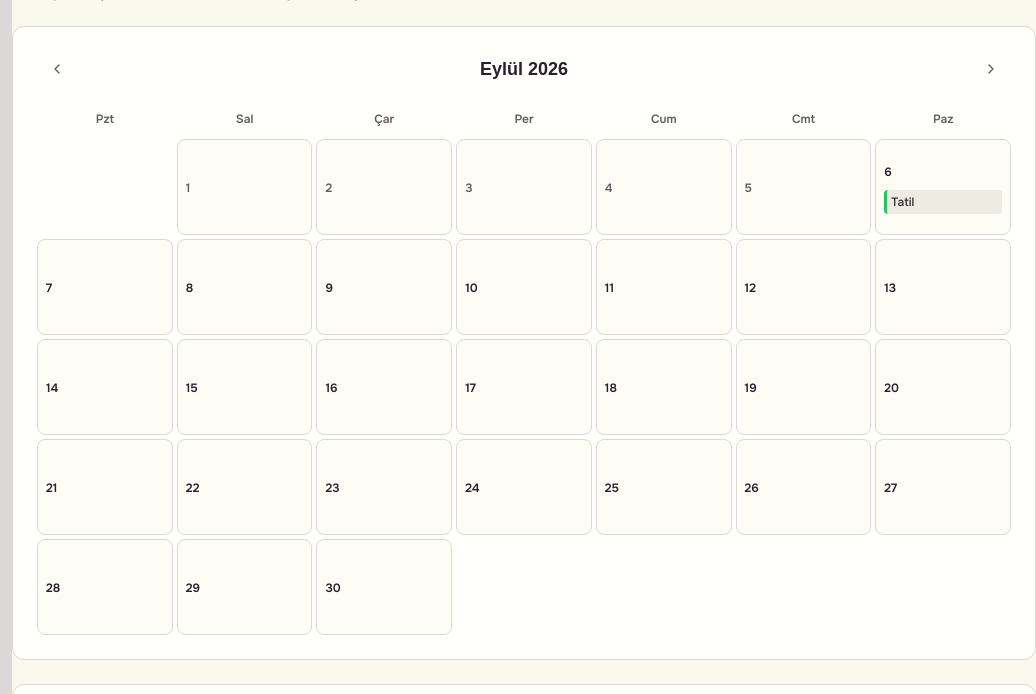
edits a date-specific day type
Click the button "6 Tatil": point(943, 187) top-left (875, 139), bottom-right (1011, 235)
(page scrolled)
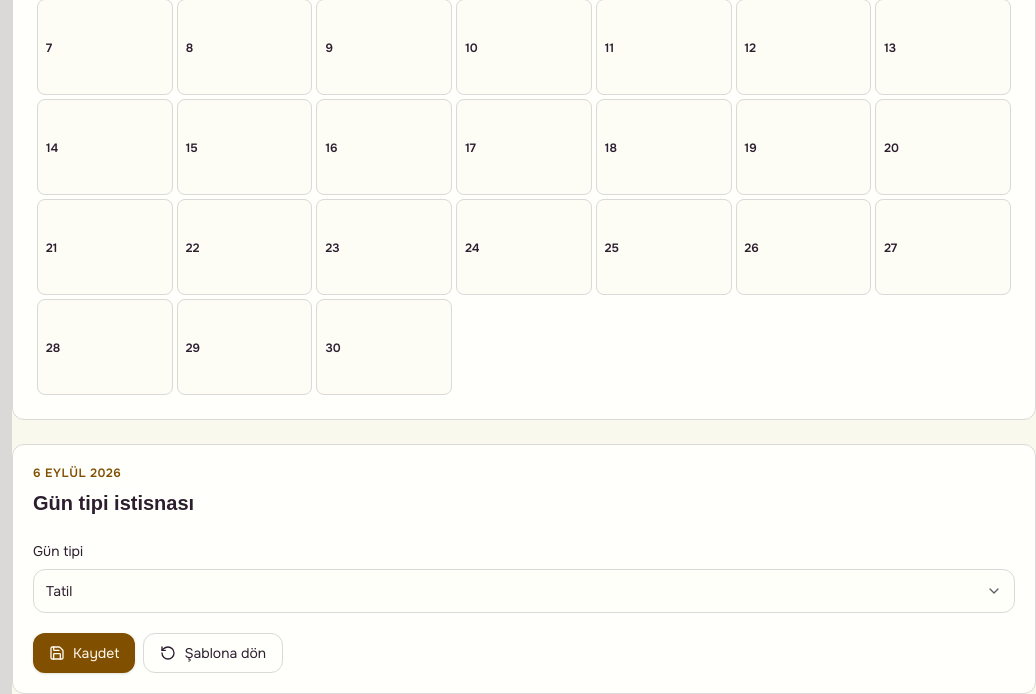
Check: the heading "Gün tipi istisnası" is shown, box top-left (33, 492), bottom-right (194, 514)
Check: the button "Şablona dön" is shown, box top-left (143, 633), bottom-right (283, 673)
Click the dropdown named "Gün tipi": point(59, 591) top-left (33, 569), bottom-right (1015, 613)
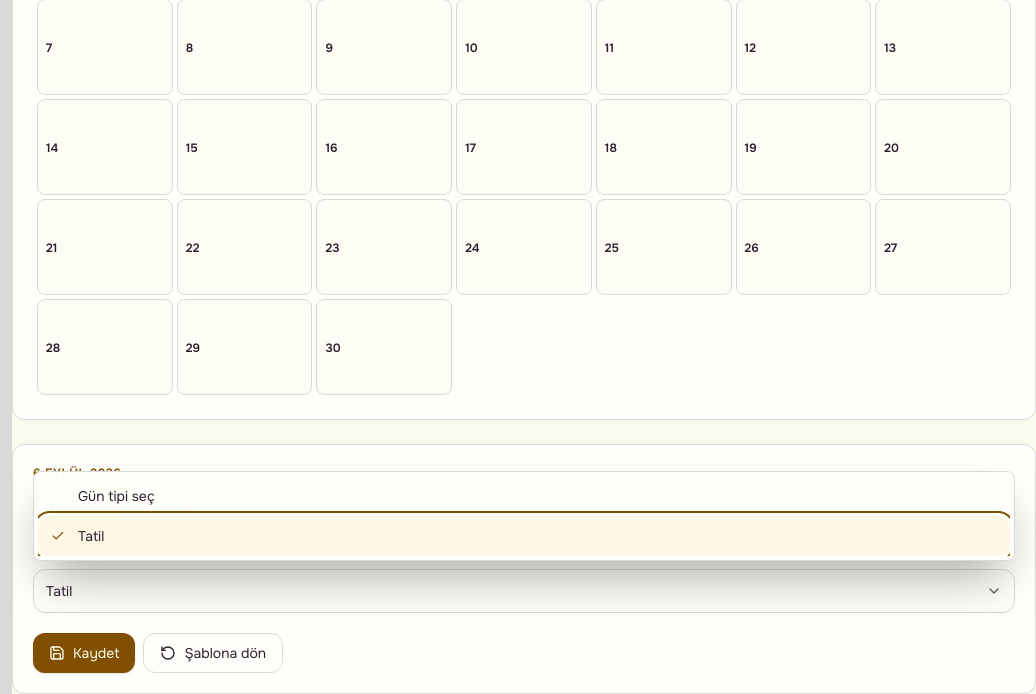
Check: the option "Tatil" is shown, box top-left (38, 516), bottom-right (1010, 556)
